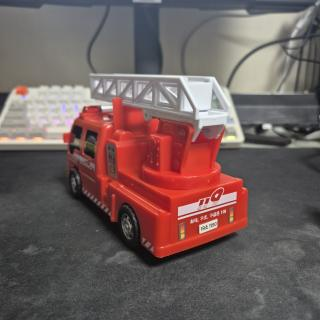Fire_truck: (64, 74, 247, 257)
